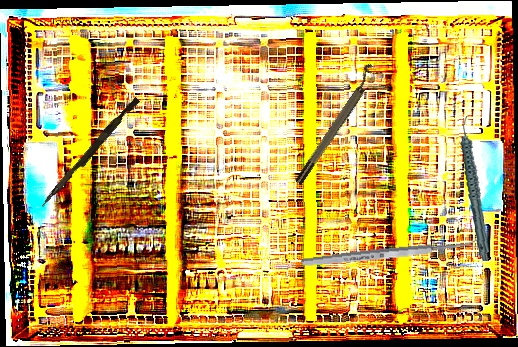Fixation Ring: (287, 62, 384, 187)
Handpiece: (449, 115, 502, 262)
Pusher: (39, 94, 141, 212)
Surgical Spoon: (300, 237, 488, 269)
